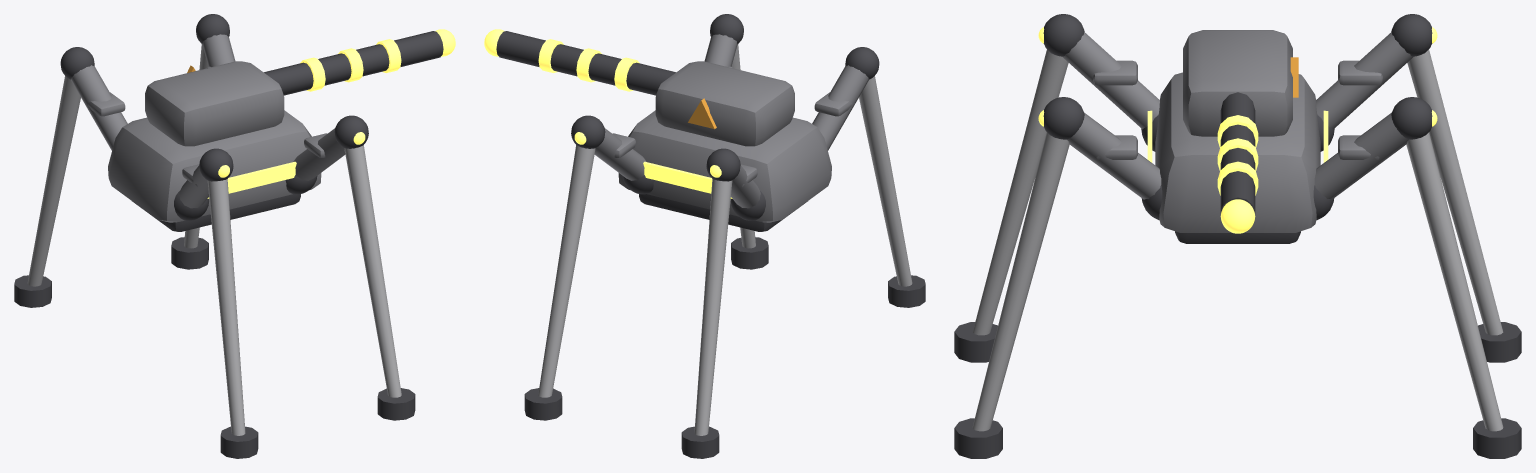
File: rob_smg.glb
3 renders of one model, left to right at view 1: azimuth 30°, elevation 25°; view 2: azimuth 150°, elevation 25°; view 3: azimuth 270°, elevation 25°, orthographic. The views are drawn at different scales.
Parts seen in each view (by area): view 1: turret_m, rob_smg, limb_r0_m, limb_r1_m, limb_l1_m, limb_l0_m; view 2: turret_m, rob_smg, limb_l0_m, limb_l1_m, limb_r1_m, limb_r0_m; view 3: rob_smg, turret_m, limb_l0_m, limb_r0_m, limb_l1_m, limb_r1_m.
Boxes of the visible parts, x1,y1,x2,y2 form: turret_m: (145,29,455,146); rob_smg: (108,110,321,231); limb_r0_m: (285,115,415,420); limb_r1_m: (174,148,258,458); limb_l1_m: (14,47,127,307); limb_l0_m: (171,14,235,269); turret_m: (484,29,794,146); rob_smg: (618,110,831,231); limb_l0_m: (524,115,654,420); limb_l1_m: (681,148,765,458); limb_r1_m: (812,47,925,307); limb_r0_m: (704,14,768,269); rob_smg: (1147,72,1328,243); turret_m: (1183,30,1298,233); limb_l0_m: (1313,97,1521,458); limb_r0_m: (954,97,1162,458); limb_l1_m: (1316,14,1521,362); limb_r1_m: (954,14,1159,362).
Size of the model in its own units: 0.6163 by 0.485 by 0.7216.
